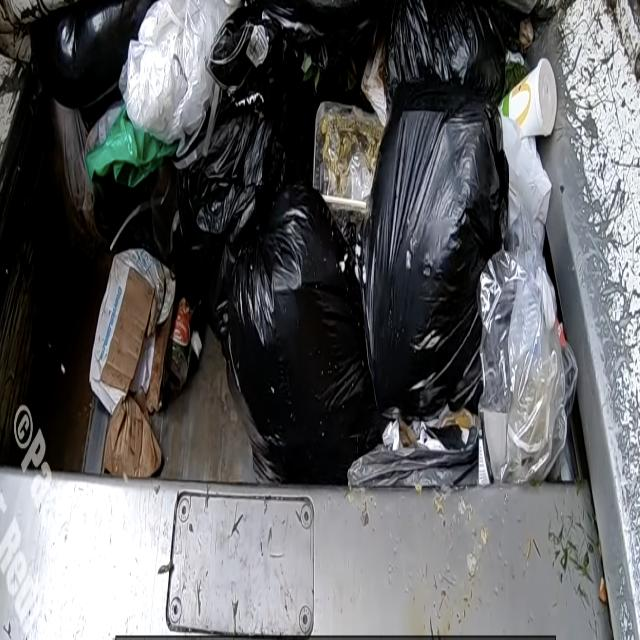bag: (374, 121, 568, 508), (218, 221, 386, 492), (68, 15, 272, 198)
paper: (85, 221, 228, 538)
plastic: (497, 34, 560, 166)
trash: (294, 84, 407, 212)
